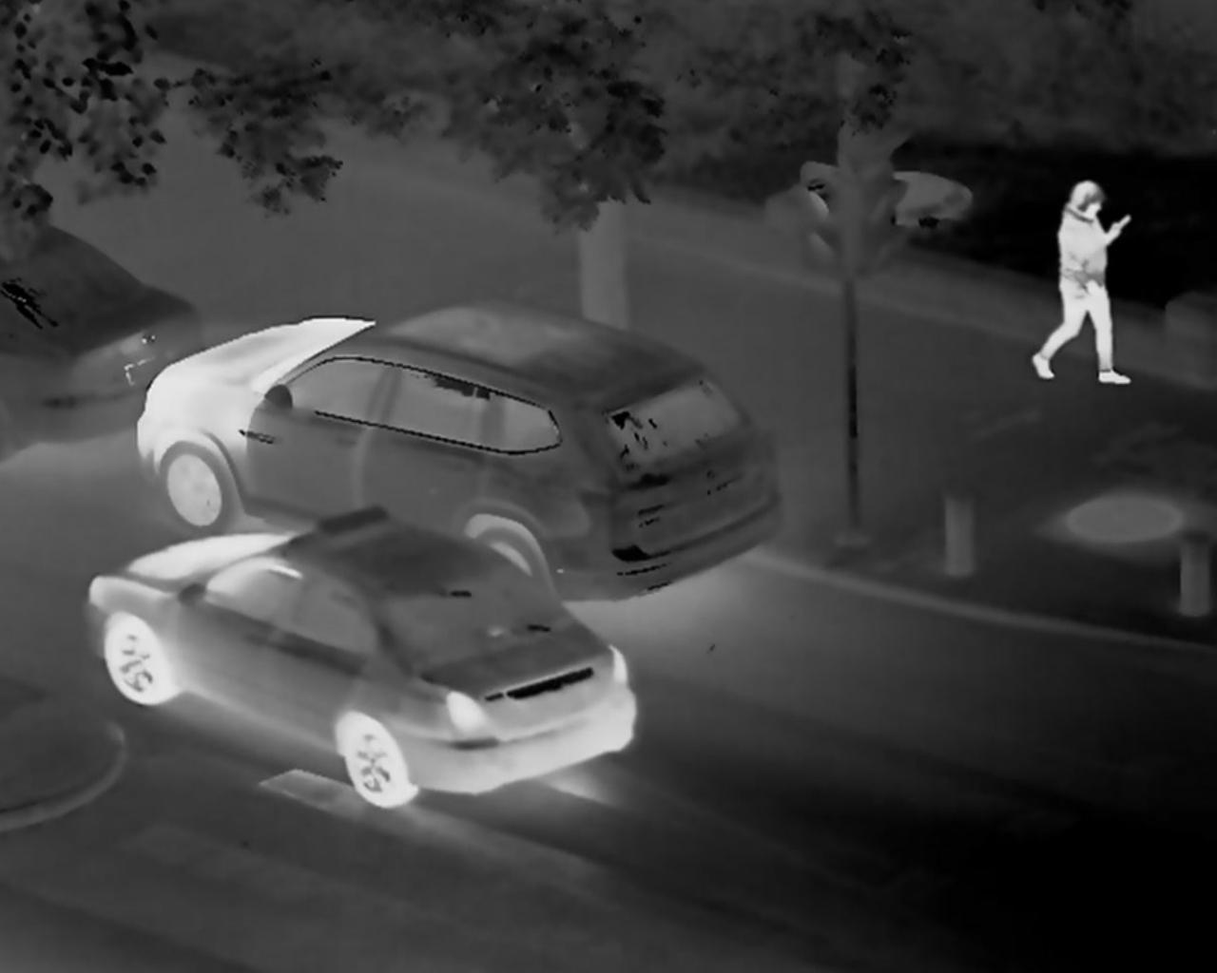person: (1025, 179, 1140, 410)
